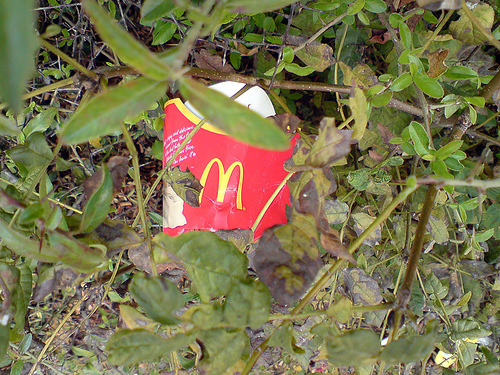litter: (163, 82, 294, 234)
